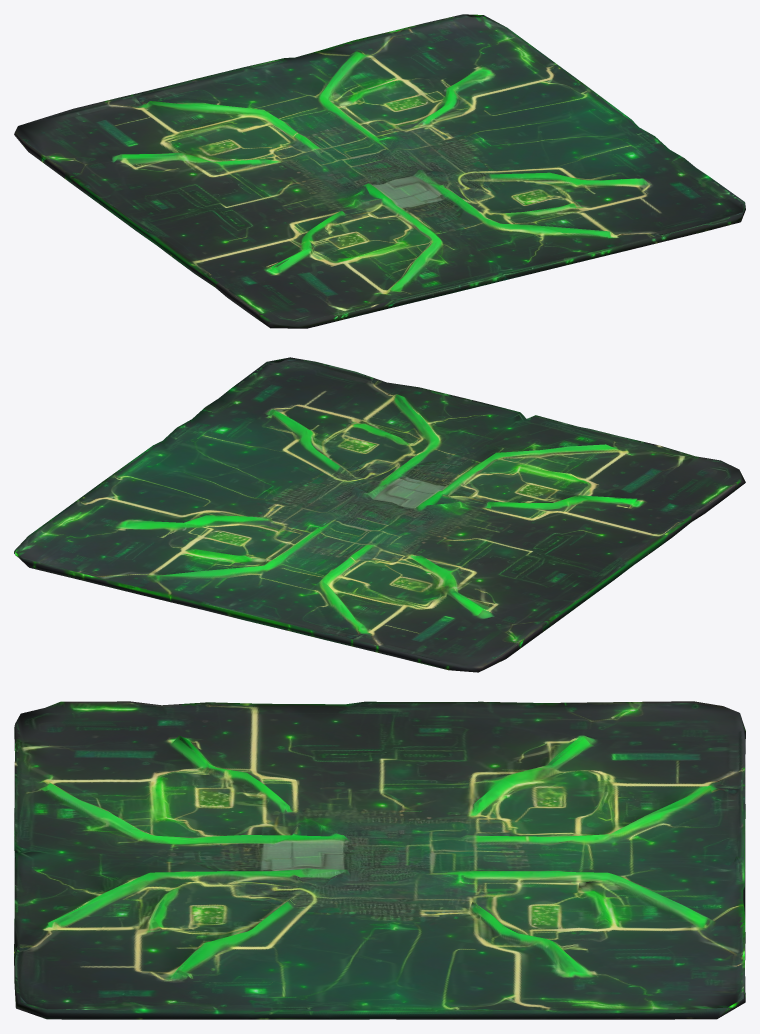
File: _Abstract_digital_gro_1019161443_texture.obj
The picture shows the model from 3 angles, top to bottom: view 1: azimuth 30°, elevation 25°; view 2: azimuth 150°, elevation 25°; view 3: azimuth 270°, elevation 25°; orthographic projection. The views are drawn at different scales.
Visible parts, largest first — view 1: _Abstract_digital_gro_1019161443_texture; view 2: _Abstract_digital_gro_1019161443_texture; view 3: _Abstract_digital_gro_1019161443_texture.
Boxes of the visible parts, bbox=[...] form: _Abstract_digital_gro_1019161443_texture: bbox=[14, 14, 745, 328]; _Abstract_digital_gro_1019161443_texture: bbox=[14, 357, 745, 672]; _Abstract_digital_gro_1019161443_texture: bbox=[14, 701, 745, 1019].
Size of the model in its own units: 1.91 by 0.0376 by 1.91.
